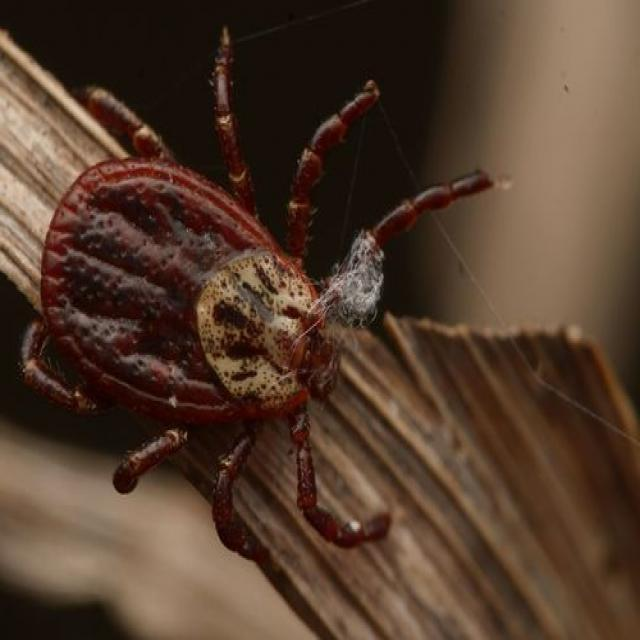Dermacentor Reticulatus-F: (20, 26, 495, 558)
